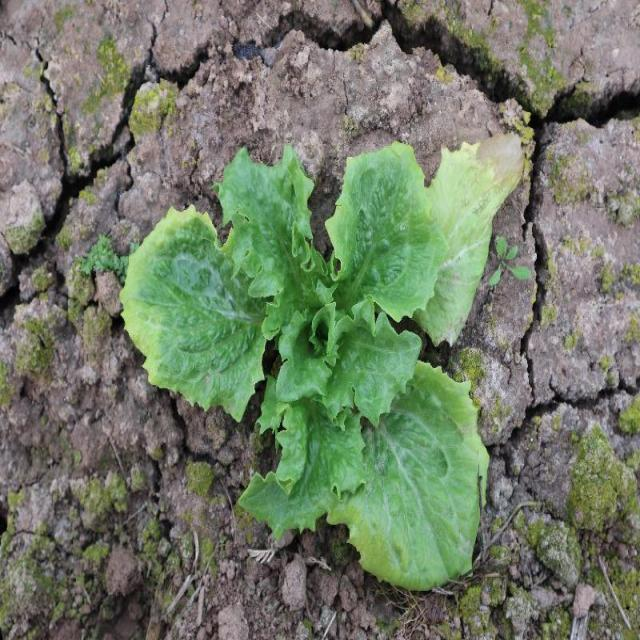crop: (122, 136, 512, 593)
